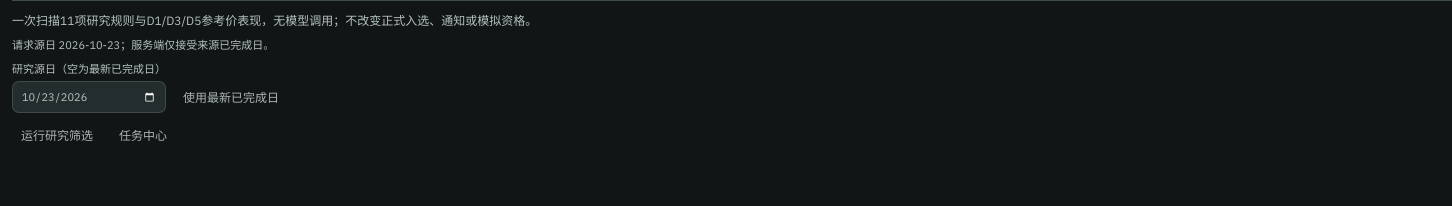
Test: does not replace saved results when task completion has missing identity
Click the button "运行研究筛选" at (57, 136), box [12, 121, 102, 151]
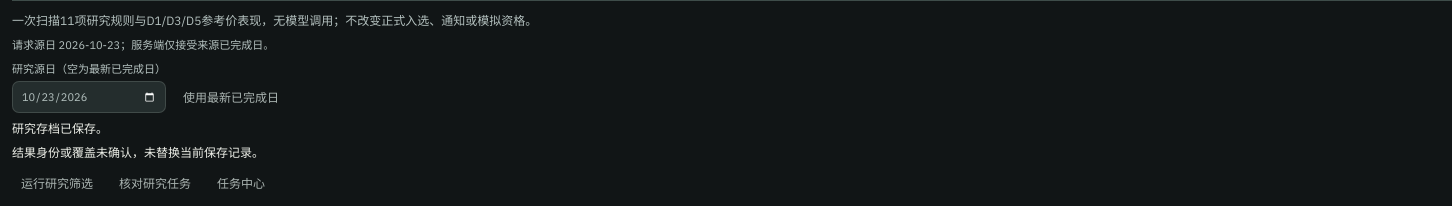
Expected: the text "结果身份或覆盖未确认，未替换当前保存记录。" is shown, [12, 145, 264, 160]
